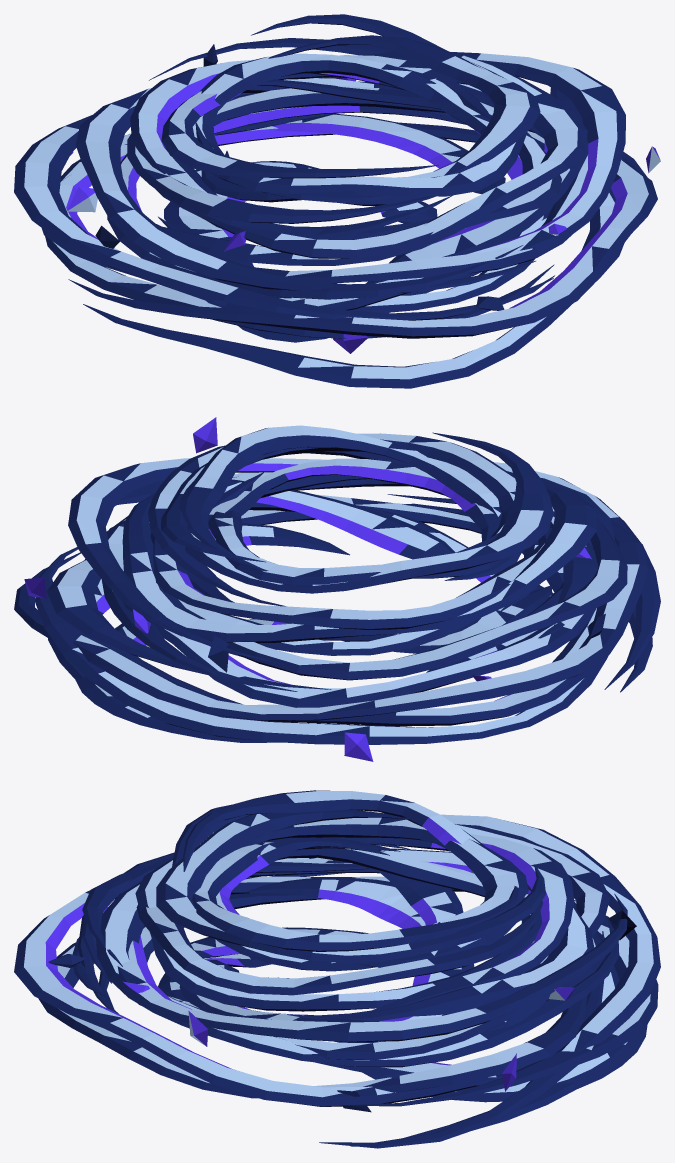
The model's file is Eye_Of_The_Storm.fbx.
3 views of the same model, one above another, from view 1: azimuth 30°, elevation 25°; view 2: azimuth 150°, elevation 25°; view 3: azimuth 270°, elevation 25° (orthographic).
Visible parts, largest first — view 1: EYE_IMPACT, Eyewall_04, Eyewall_10, Eyewall_05, Eyewall_09, Eyewall_14, Eyewall_02, Eyewall_18, Eyewall_12, Eyewall_20, Eyewall_13, Eyewall_17 (+9 smaller); view 2: EYE_IMPACT, Eyewall_05, Eyewall_15, Eyewall_03, Eyewall_18, Eyewall_09, Eyewall_07, Eyewall_19, Eyewall_13, Eyewall_10, Eyewall_02, Eyewall_20 (+9 smaller); view 3: EYE_IMPACT, Eyewall_04, Eyewall_05, Eyewall_20, Eyewall_10, Eyewall_08, Eyewall_02, Eyewall_14, Eyewall_18, Eyewall_13, Eyewall_19, Eyewall_12 (+9 smaller).
Part boxes in pixels (x1=…): EYE_IMPACT: x1=67, y1=44, x2=660, y2=353; Eyewall_04: x1=68, y1=113, x2=657, y2=338; Eyewall_10: x1=149, y1=38, x2=625, y2=310; Eyewall_05: x1=14, y1=81, x2=646, y2=320; Eyewall_09: x1=75, y1=78, x2=544, y2=293; Eyewall_14: x1=156, y1=51, x2=587, y2=265; Eyewall_02: x1=83, y1=82, x2=624, y2=388; Eyewall_18: x1=201, y1=35, x2=540, y2=202; Eyewall_12: x1=155, y1=79, x2=561, y2=258; Eyewall_20: x1=195, y1=14, x2=527, y2=196; Eyewall_13: x1=130, y1=59, x2=494, y2=239; Eyewall_17: x1=192, y1=53, x2=479, y2=202; EYE_IMPACT: x1=24, y1=417, x2=605, y2=761; Eyewall_05: x1=14, y1=494, x2=648, y2=720; Eyewall_15: x1=122, y1=471, x2=596, y2=643; Eyewall_03: x1=35, y1=547, x2=608, y2=744; Eyewall_18: x1=179, y1=425, x2=522, y2=580; Eyewall_09: x1=123, y1=518, x2=627, y2=680; Eyewall_07: x1=155, y1=478, x2=615, y2=707; Eyewall_19: x1=185, y1=432, x2=553, y2=593; Eyewall_13: x1=150, y1=527, x2=551, y2=629; Eyewall_10: x1=68, y1=458, x2=564, y2=665; Eyewall_02: x1=47, y1=502, x2=652, y2=692; Eyewall_20: x1=161, y1=433, x2=516, y2=562; EYE_IMPACT: x1=48, y1=870, x2=647, y2=1112; Eyewall_04: x1=14, y1=890, x2=606, y2=1106; Eyewall_05: x1=78, y1=814, x2=660, y2=1148; Eyewall_20: x1=156, y1=809, x2=545, y2=963; Eyewall_10: x1=114, y1=860, x2=627, y2=1042; Eyewall_08: x1=96, y1=862, x2=619, y2=1067; Eyewall_02: x1=38, y1=873, x2=587, y2=1098; Eyewall_14: x1=136, y1=841, x2=542, y2=995; Eyewall_18: x1=192, y1=837, x2=518, y2=951; Eyewall_13: x1=331, y1=834, x2=574, y2=1013; Eyewall_19: x1=183, y1=790, x2=524, y2=967; Eyewall_12: x1=135, y1=859, x2=542, y2=1011.
Size of the model in its own units: 1103 by 294 by 1092.
